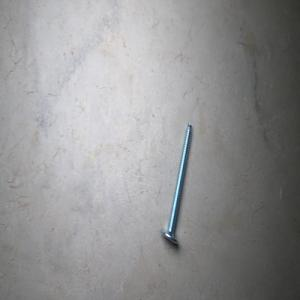Bolt: (160, 122, 193, 244)
